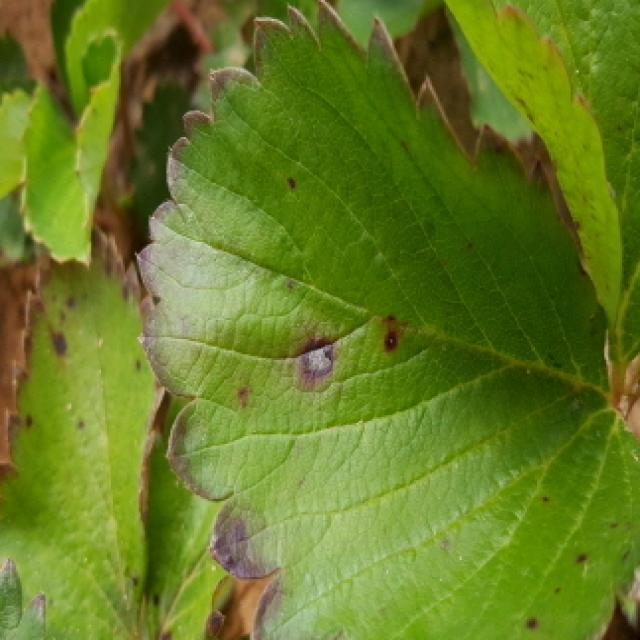Leaf Spot: (133, 0, 640, 640), (442, 0, 640, 397), (0, 218, 170, 640), (141, 393, 267, 640)
